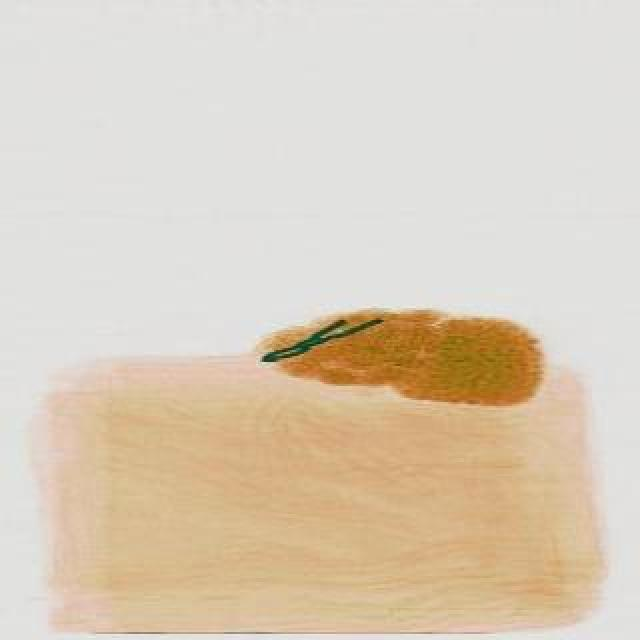wrench: (256, 304, 378, 368)
